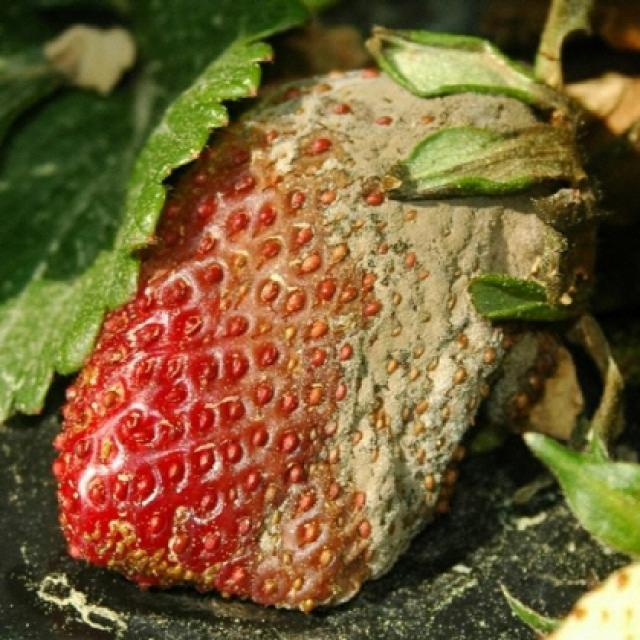Gray Mold: (49, 46, 610, 613)
